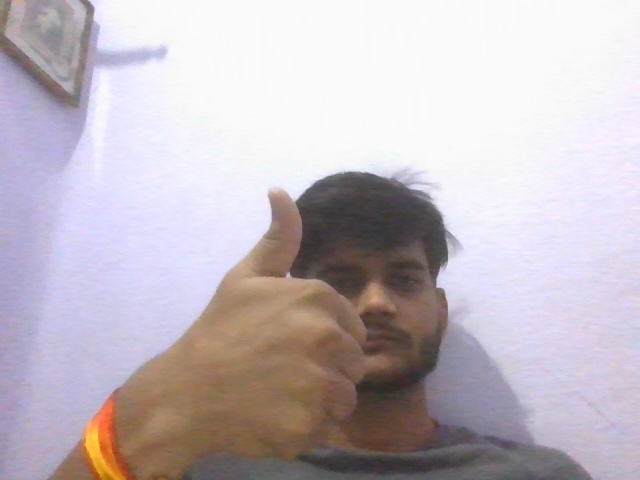thanks: (174, 171, 378, 480)
